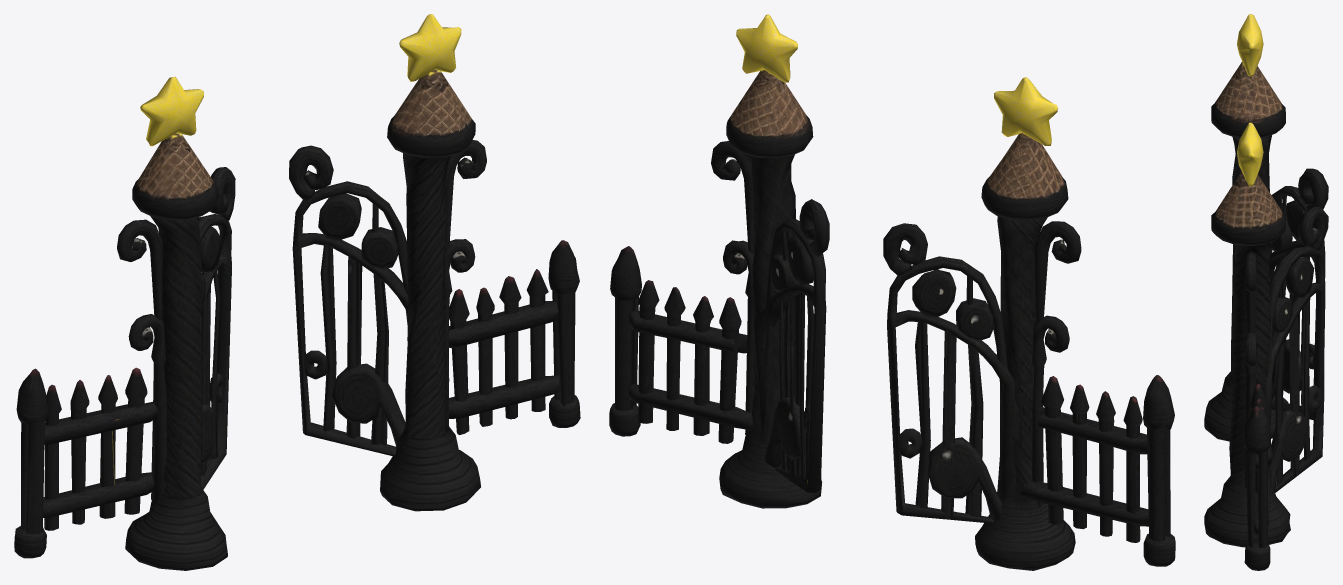
Rendered from AW-HW-GATE-001-v0.2.glb.
3 views of the same model, side by side, from view 1: azimuth 30°, elevation 25°; view 2: azimuth 150°, elevation 25°; view 3: azimuth 270°, elevation 25° (orthographic). The views are drawn at different scales.
Visible parts, largest first — view 1: AW-HW-GATE-001_meter_ground_pivot; view 2: AW-HW-GATE-001_meter_ground_pivot; view 3: AW-HW-GATE-001_meter_ground_pivot.
Boxes of the visible parts, x1,y1,x2,y2 form: AW-HW-GATE-001_meter_ground_pivot: (14, 14, 580, 570); AW-HW-GATE-001_meter_ground_pivot: (609, 14, 1175, 570); AW-HW-GATE-001_meter_ground_pivot: (1204, 14, 1328, 570).
Size of the model in its own units: 3.73 by 3 by 0.8239.
1 material, 1 textured.
